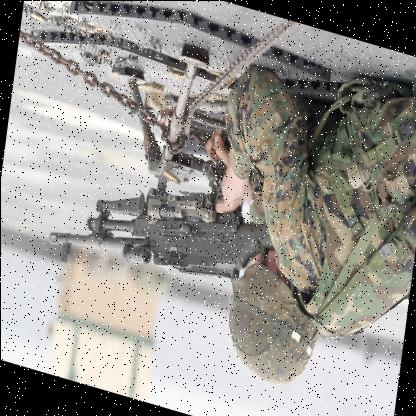rifle: (44, 111, 284, 322)
